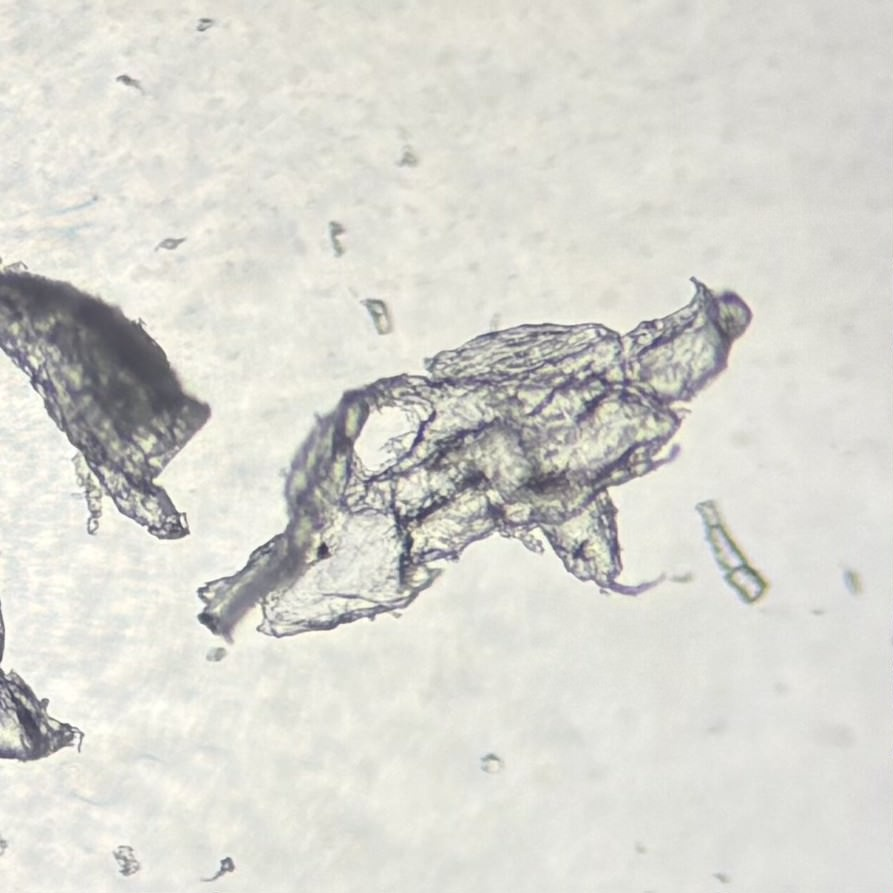microplastic: (198, 277, 754, 667), (1, 251, 212, 539), (1, 593, 85, 764), (697, 497, 769, 611), (359, 293, 396, 338), (325, 218, 346, 261), (114, 845, 142, 876), (202, 857, 235, 883), (115, 71, 145, 97), (150, 237, 189, 252), (194, 15, 217, 33)
